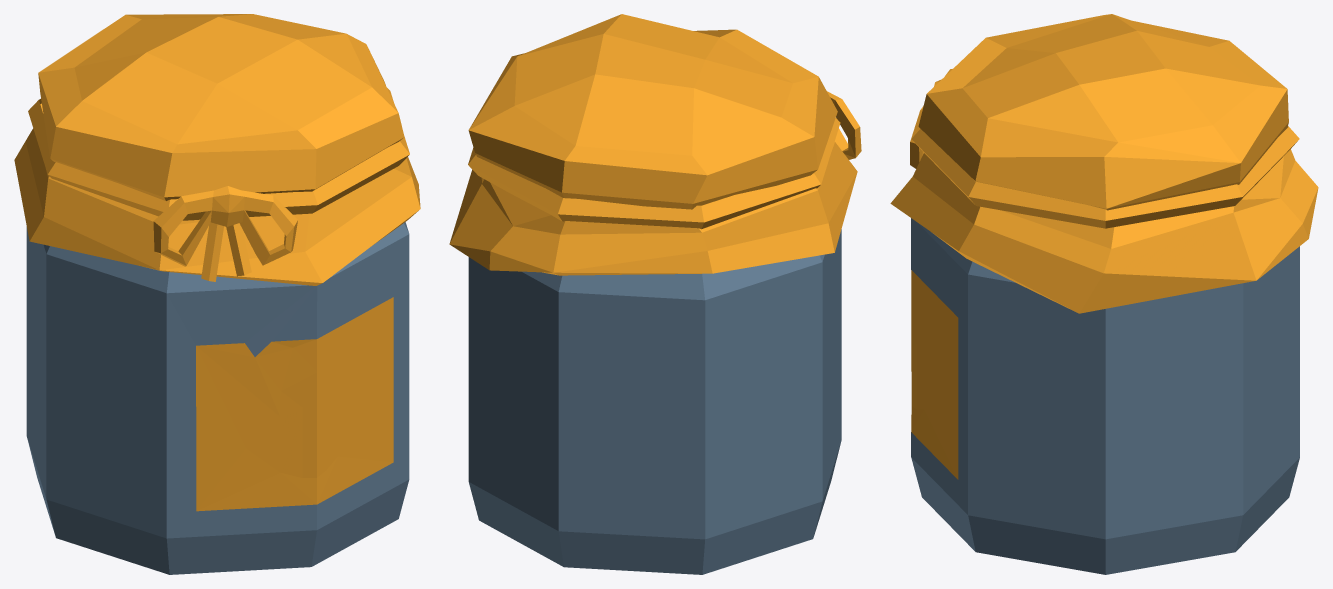
File: SM_Honey_Jar.fbx
The picture shows the model from 3 angles, left to right: view 1: azimuth 30°, elevation 25°; view 2: azimuth 150°, elevation 25°; view 3: azimuth 270°, elevation 25°; orthographic projection. The views are drawn at different scales.
Visible parts, largest first — view 1: honey-jar; view 2: honey-jar; view 3: honey-jar.
Part boxes in pixels (x1,y1,x2,y2): honey-jar: (14,14,420,574); honey-jar: (449,14,861,574); honey-jar: (890,14,1318,574).
Size of the model in its own units: 0.1307 by 0.1512 by 0.1321.
